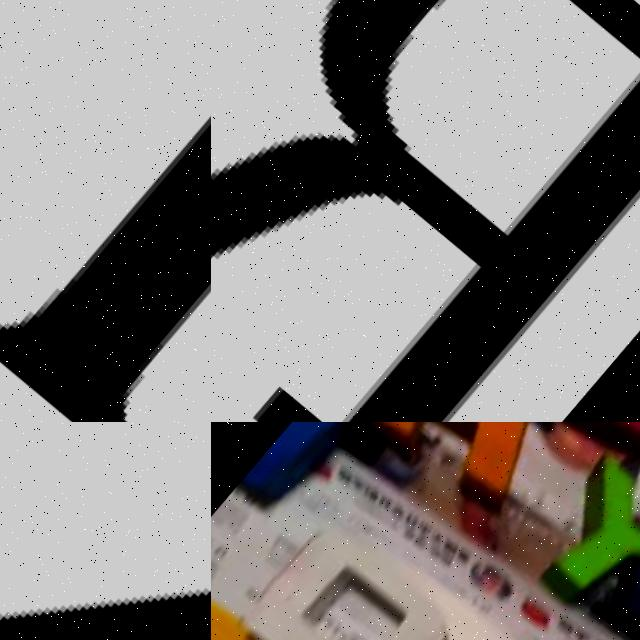1: (0, 0, 211, 422)
K: (0, 422, 211, 640)
O: (478, 422, 640, 474)
Q: (229, 510, 461, 640)
R: (211, 0, 640, 422), (332, 422, 592, 541)
Y: (518, 452, 640, 640)
